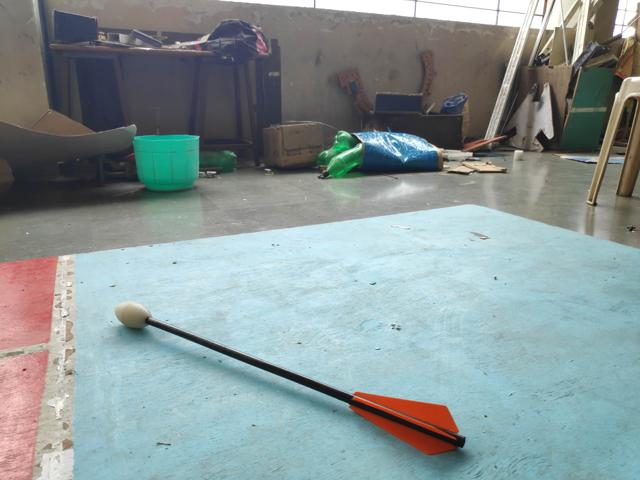Head: (110, 296, 153, 332)
Tail: (345, 389, 469, 456)
